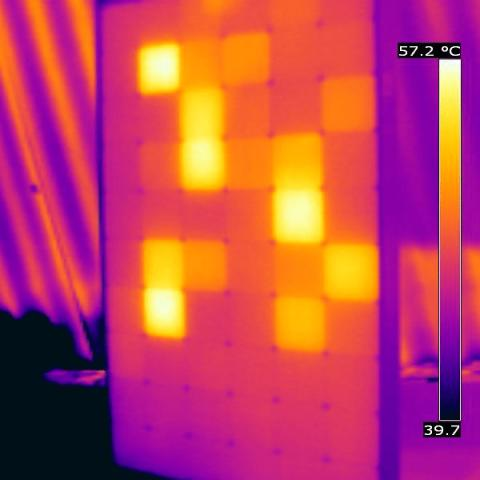fault: (267, 130, 328, 246), (171, 86, 232, 197), (134, 236, 188, 339), (266, 292, 330, 354), (323, 240, 382, 306), (132, 42, 182, 96)
